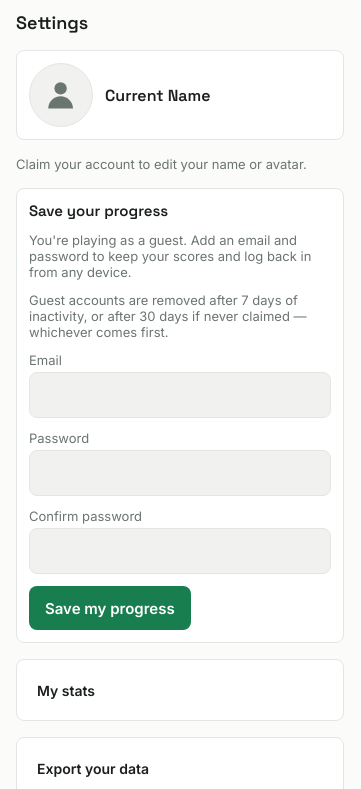
Scenario: SettingsScreen › claim/upgrade (REQ-717) › REQ-717: a 400 (not currently a guest, or email already in use) shows the server's inline error, not a generic failure banner
Type "taken@example.com" into the field labelled "Email" at (180, 395), box 29,372 -> 331,418
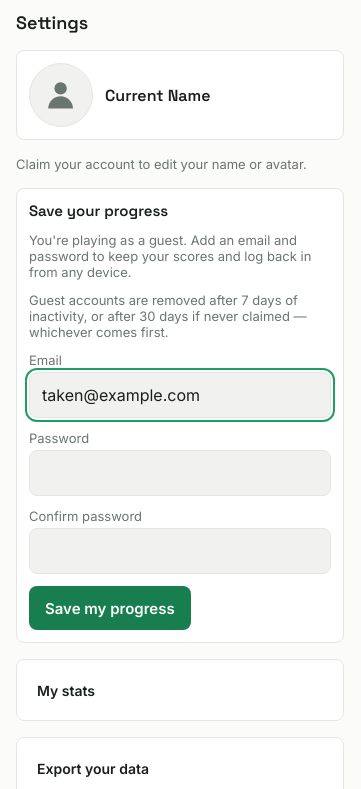
Type "password123" into the password field labelled "Password" at (180, 473), box 29,450 -> 331,496
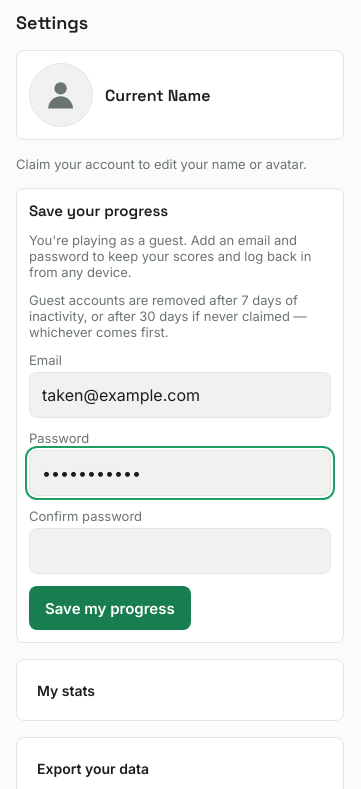
Type "password123" into the password field labelled "Confirm password" at (180, 551), box 29,528 -> 331,574
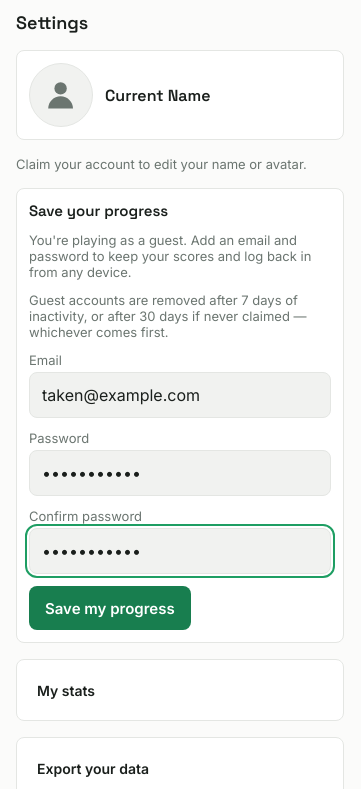
Click the button "Save my progress" at (110, 608), box 29,586 -> 191,630
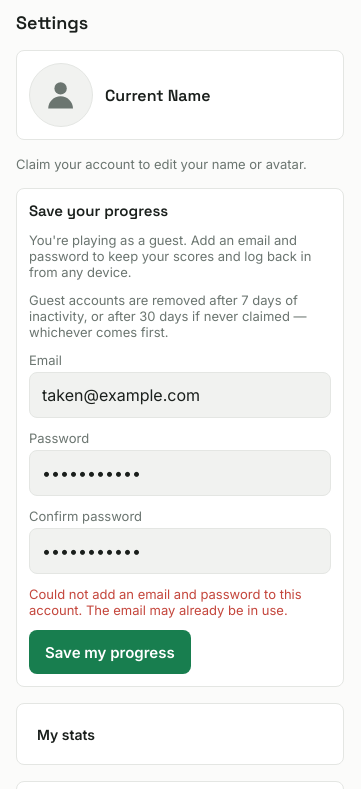
expect the text "Could not add an email and password to this account. The email may already be in use." is shown: met, box 29,586 -> 302,618
